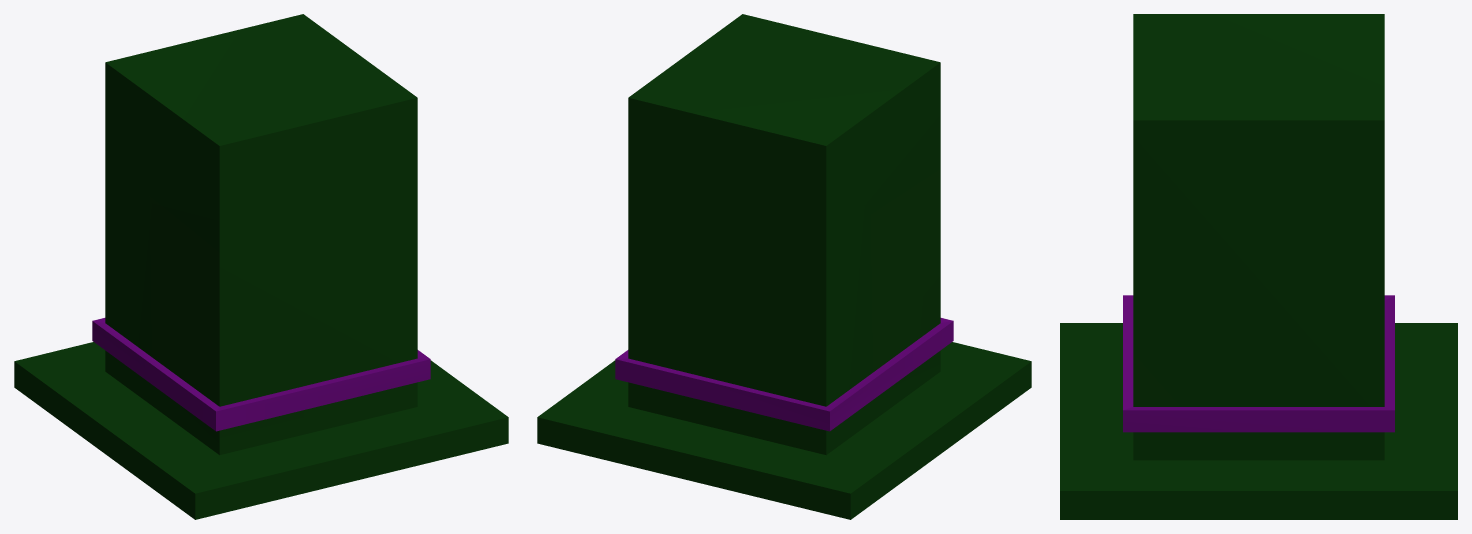
File: hat.glb
The picture shows the model from 3 angles, left to right: view 1: azimuth 30°, elevation 25°; view 2: azimuth 150°, elevation 25°; view 3: azimuth 270°, elevation 25°; orthographic projection. The views are drawn at different scales.
Parts seen in each view (by area): view 1: Cube; view 2: Cube; view 3: Cube.
Boxes of the visible parts, left/top/right/bottom form: Cube: left=14, top=14, right=508, bottom=519; Cube: left=537, top=14, right=1031, bottom=519; Cube: left=1060, top=14, right=1457, bottom=519.
Bounding box in the file's own units: 3.16 × 3.24 × 3.16.
1 material, 1 textured.
